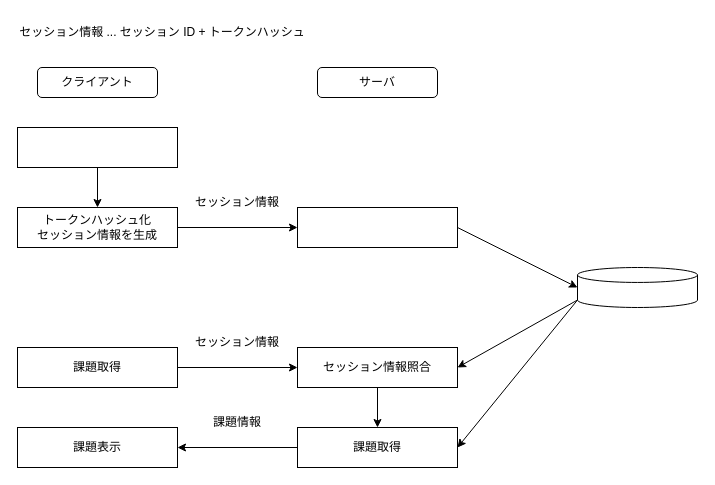
Image size: 715x485. Some labels were removed from this diagram. The centre of each missing label's shape, as x and y in pixels:
"DB" goes at pixel 637 287.
"セッション情報を記録" goes at pixel 377 227.
"ログイン" goes at pixel 97 147.
